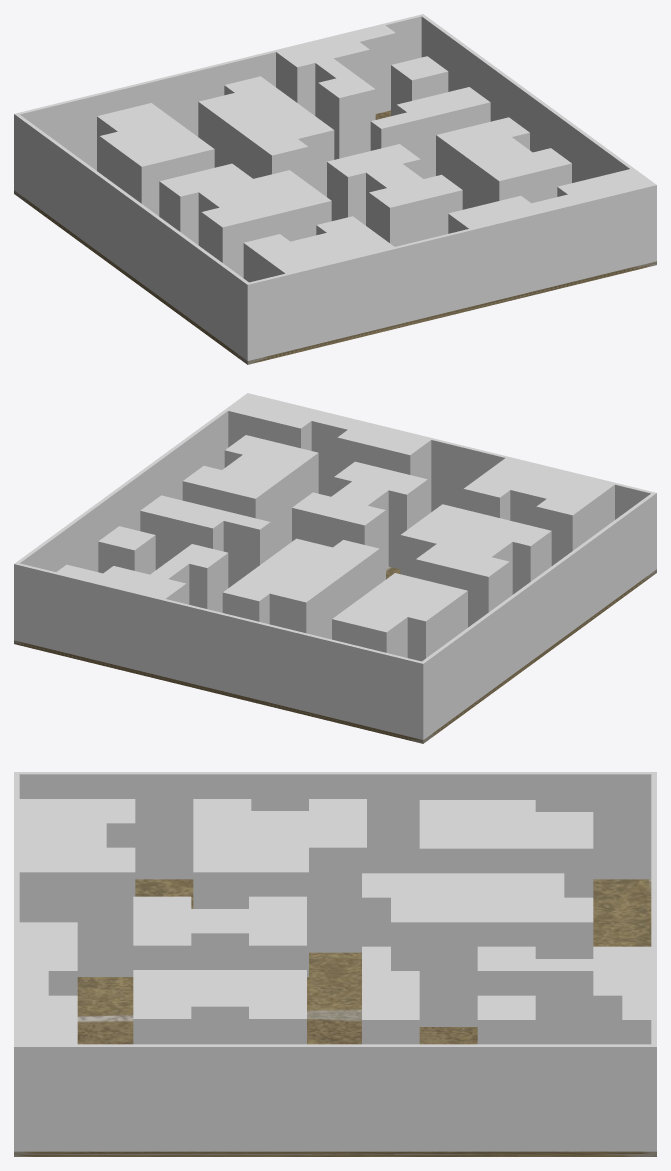
Rendered from marchette_maze.fbx.
3 renders of one model, top to bottom at view 1: azimuth 30°, elevation 25°; view 2: azimuth 150°, elevation 25°; view 3: azimuth 270°, elevation 25°, orthographic. The views are drawn at different scales.
Visible parts, largest first — view 1: Cube.004, Cube.001, InnerWall.022, Cube.003, InnerWall.015, InnerWall.016, InnerWall.018, Cube.002, InnerWall.017, InnerWall.020, InnerWall.019, InnerWall.024 (+3 smaller); view 2: Cube.003, Cube.001, InnerWall.022, InnerWall.015, InnerWall.023, InnerWall.018, Cube.002, InnerWall.024, InnerWall.017, InnerWall.020, InnerWall.019, InnerWall.016 (+3 smaller); view 3: Cube.002, Cube.001, InnerWall.015, InnerWall.022, Cube.005, InnerWall.024, InnerWall.016, InnerWall.017, InnerWall.020, InnerWall.018, InnerWall.023, InnerWall.019 (+3 smaller).
Boxes of the visible parts, <box> form: Cube.004: <box>245,183,656,360</box>; Cube.001: <box>14,113,248,359</box>; InnerWall.022: <box>159,163,331,277</box>; Cube.003: <box>18,14,424,170</box>; InnerWall.015: <box>198,76,334,196</box>; InnerWall.016: <box>276,25,395,159</box>; InnerWall.018: <box>327,144,462,246</box>; Cube.002: <box>421,15,654,184</box>; InnerWall.017: <box>436,117,571,209</box>; InnerWall.020: <box>97,103,214,216</box>; InnerWall.019: <box>370,87,490,178</box>; InnerWall.024: <box>243,216,394,282</box>; Cube.003: <box>14,562,421,738</box>; Cube.001: <box>419,493,654,739</box>; InnerWall.022: <box>400,504,551,627</box>; InnerWall.015: <box>222,538,379,639</box>; InnerWall.023: <box>228,395,431,514</box>; InnerWall.018: <box>292,461,427,583</box>; Cube.002: <box>16,394,248,571</box>; InnerWall.024: <box>463,458,614,565</box>; InnerWall.017: <box>182,435,318,556</box>; InnerWall.020: <box>332,573,467,661</box>; InnerWall.019: <box>140,495,270,587</box>; InnerWall.016: <box>56,544,228,612</box>; Cube.002: <box>19,1044,651,1151</box>; Cube.001: <box>19,772,656,879</box>; InnerWall.015: <box>362,873,593,1026</box>; InnerWall.022: <box>193,799,366,976</box>; Cube.005: <box>14,879,656,1156</box>; InnerWall.024: <box>19,799,135,976</box>; InnerWall.016: <box>477,946,651,1044</box>; InnerWall.017: <box>133,970,306,1044</box>; InnerWall.020: <box>419,800,593,897</box>; InnerWall.018: <box>133,896,306,969</box>; InnerWall.023: <box>19,922,77,1044</box>; InnerWall.019: <box>362,946,419,1044</box>.
Size of the model in its own units: 1124 by 210 by 1111.
